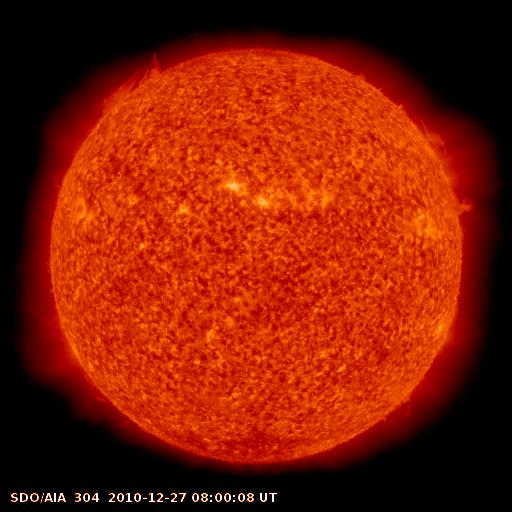prominence: (91, 50, 171, 121), (400, 110, 457, 164), (443, 185, 481, 231), (387, 385, 423, 422)
